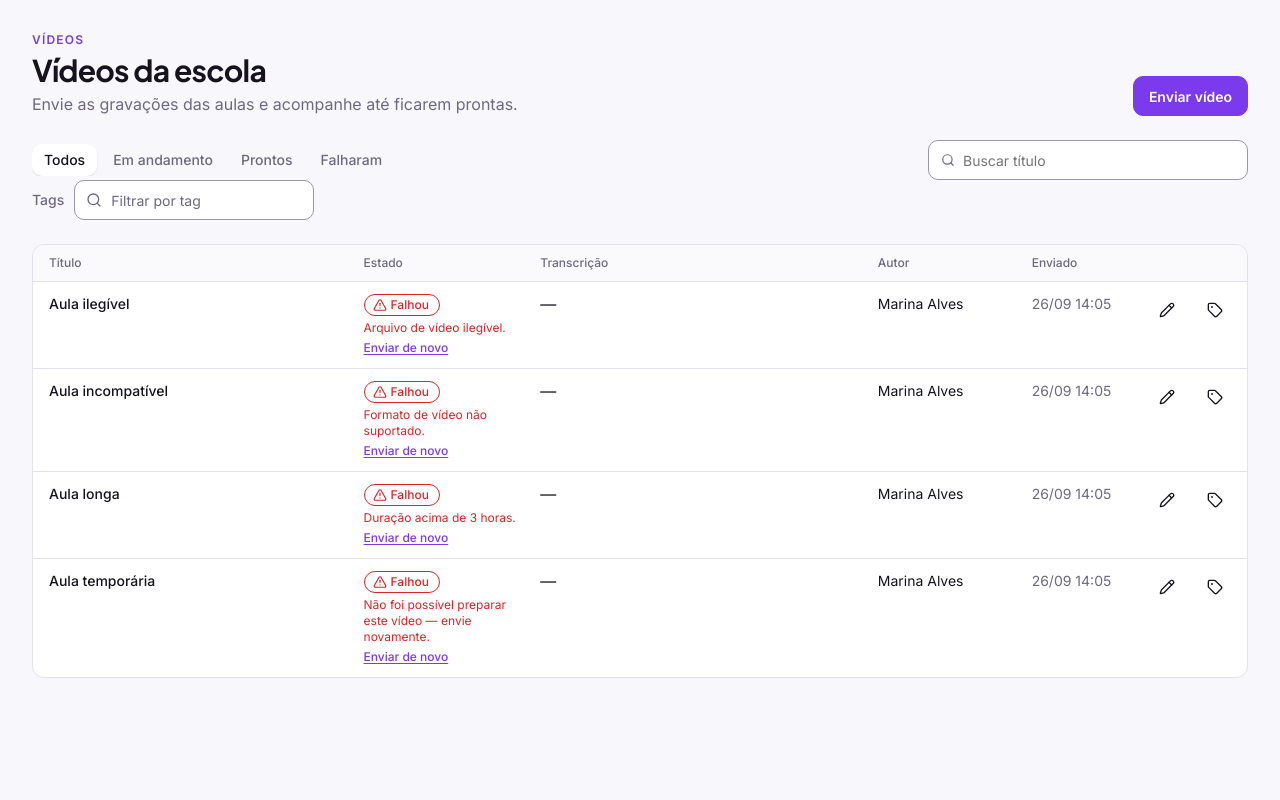
video preparation failure › shows a clear reason for every failure and opens a new upload
Check: the text "Arquivo de vídeo ilegível." is shown, box [364, 320, 506, 336]
Check: the text "Formato de vídeo não suportado." is shown, box [364, 407, 487, 438]
Click the button with aria-label "Enviar Aula ilegível de novo": (406, 348) [364, 340, 448, 356]
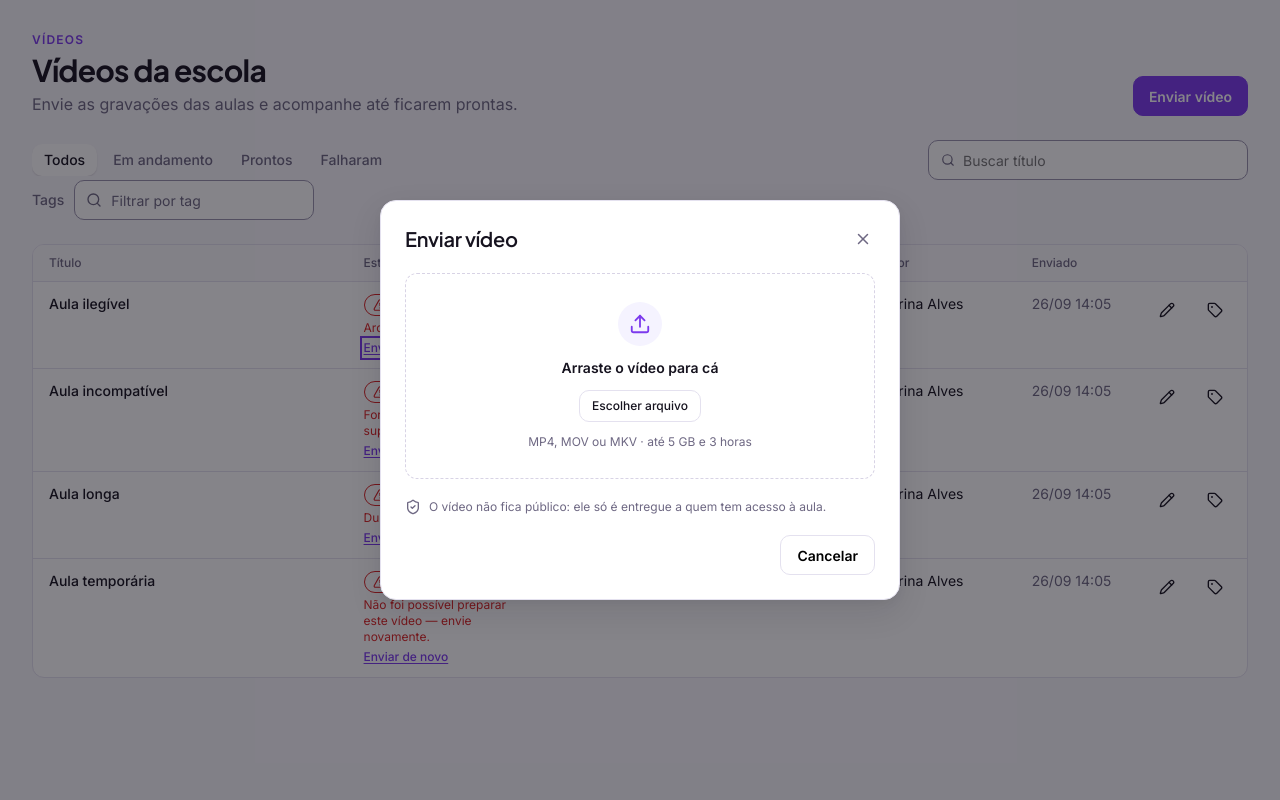
Check: the dialog "Enviar vídeo" is shown, box [380, 200, 900, 600]
